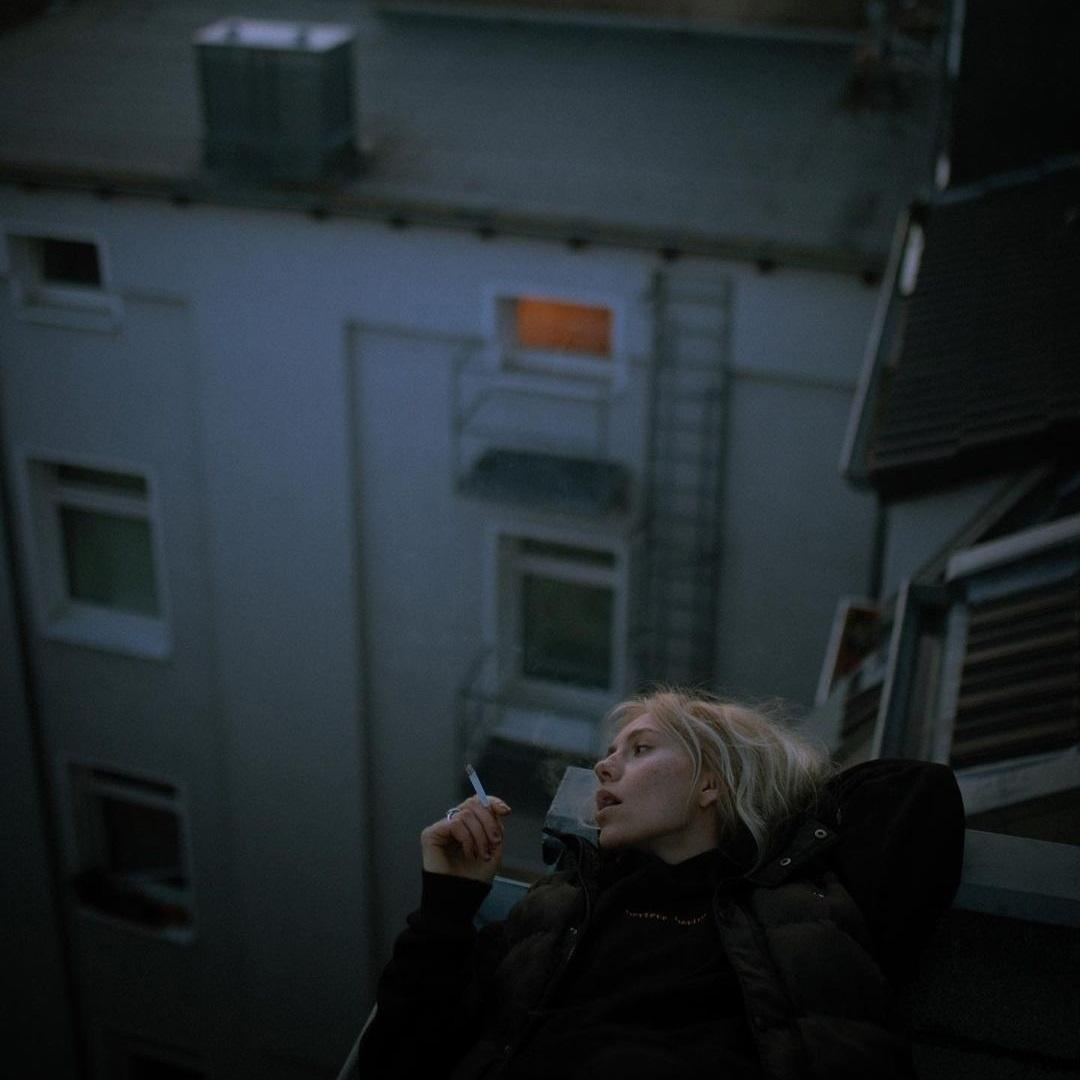cigarette: (465, 763, 489, 809)
